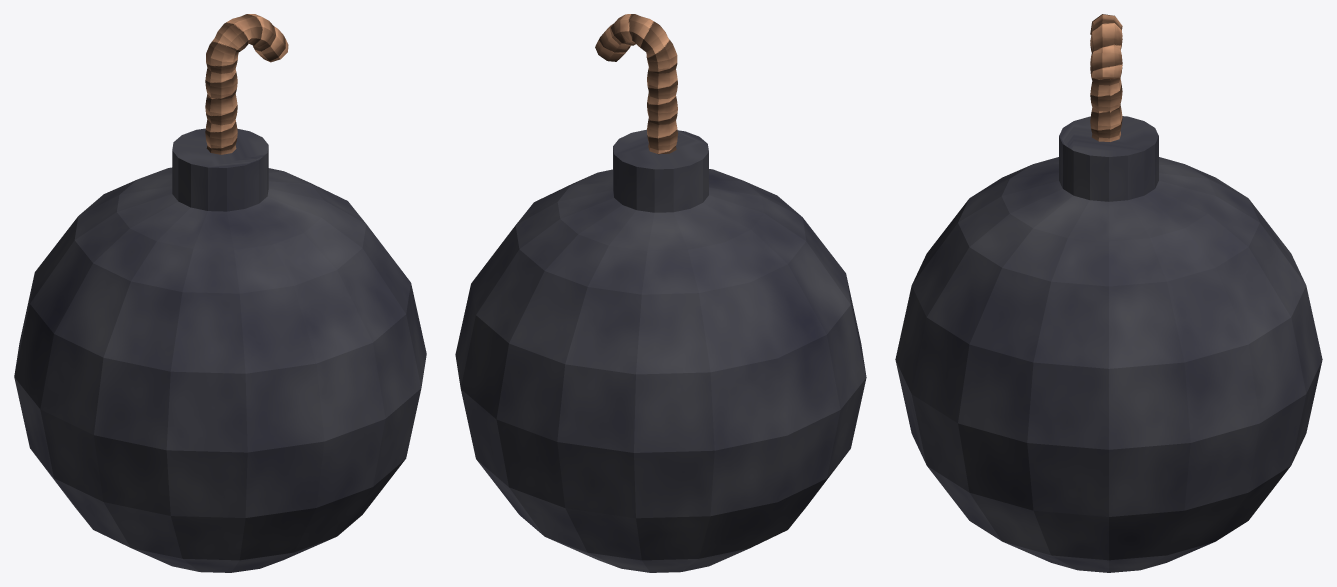
File: bomb.fbx
3 views of the same model, side by side, from view 1: azimuth 30°, elevation 25°; view 2: azimuth 150°, elevation 25°; view 3: azimuth 270°, elevation 25° (orthographic). The views are drawn at different scales.
Parts seen in each view (by area): view 1: Sphere.001; view 2: Sphere.001; view 3: Sphere.001.
Boxes of the visible parts, x1,y1,x2,y2 form: Sphere.001: [14, 14, 426, 572]; Sphere.001: [455, 14, 866, 572]; Sphere.001: [895, 14, 1322, 572].
Bounding box in the file's own units: 0.9979 × 1.41 × 0.9979.
